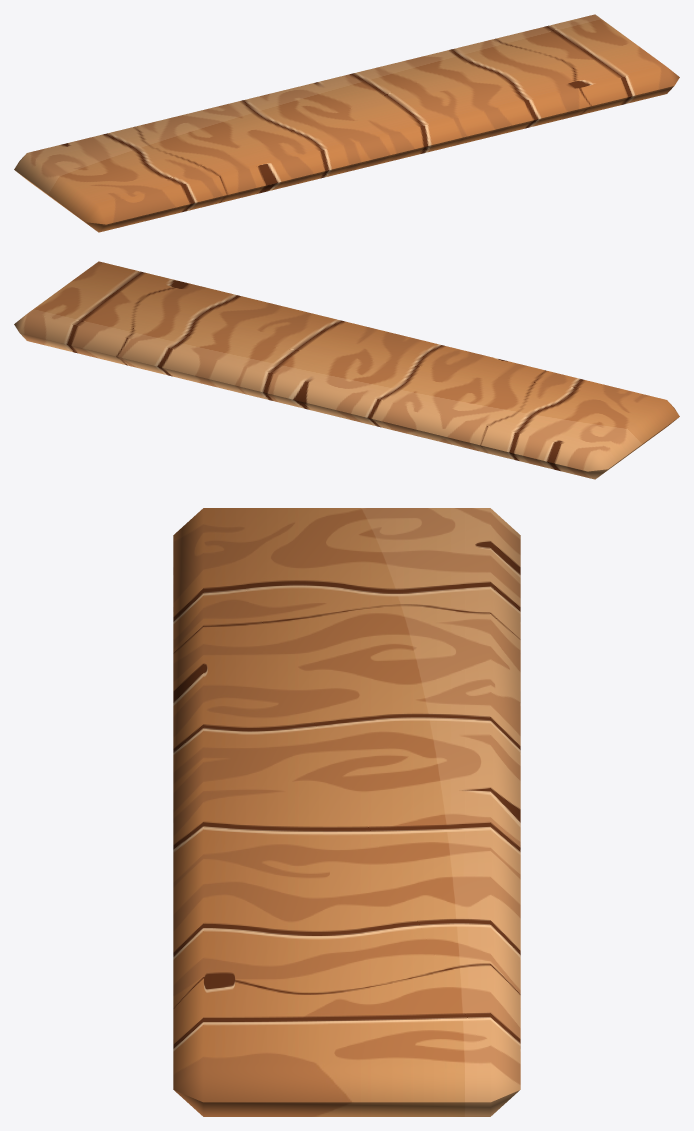
File: plataforma_1.fbx
3 renders of one model, top to bottom at view 1: azimuth 30°, elevation 25°; view 2: azimuth 150°, elevation 25°; view 3: azimuth 270°, elevation 25°, orthographic. The views are drawn at different scales.
Parts seen in each view (by area): view 1: Estante; view 2: Estante; view 3: Estante.
Boxes of the visible parts, <box> form: Estante: <box>14,14,679,232</box>; Estante: <box>14,261,679,479</box>; Estante: <box>173,508,520,1116</box>.
Bounding box in the file's own units: 114 × 4.96 × 28.78.
